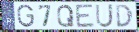7: (37, 4, 53, 28)
D: (115, 4, 134, 28)
E: (75, 3, 96, 28)
G: (16, 4, 35, 28)
Q: (57, 4, 76, 28)
U: (95, 4, 115, 29)
